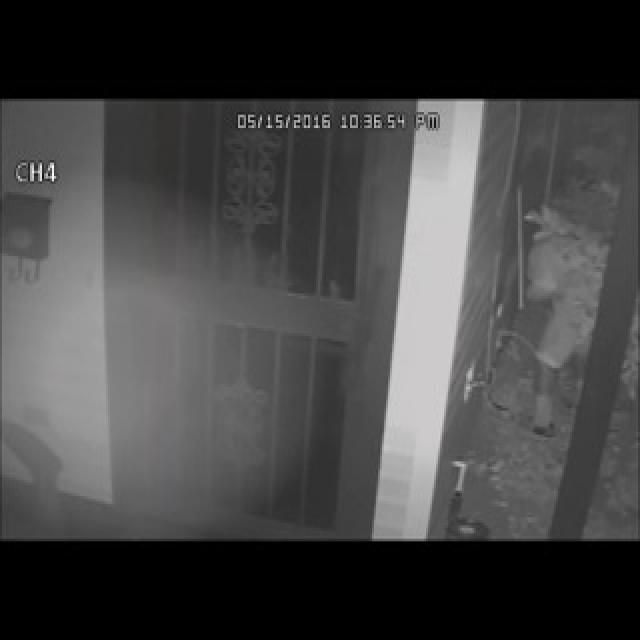thief: (499, 175, 605, 348)
